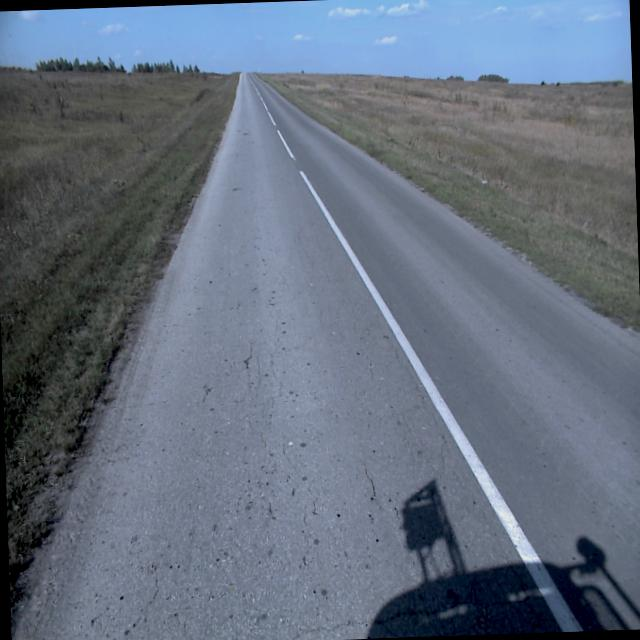road: (11, 72, 640, 640)
